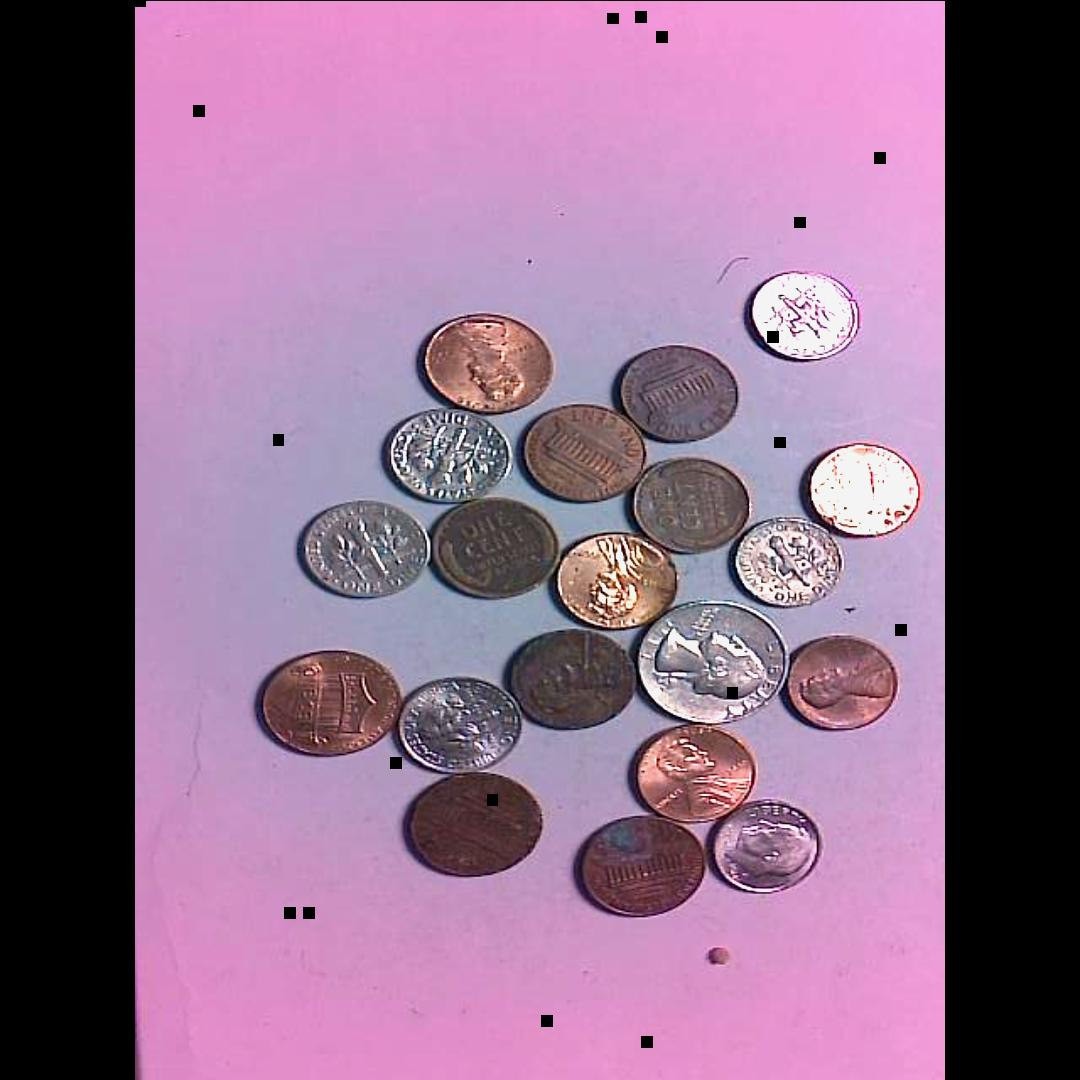Dime: (297, 498, 432, 599), (381, 403, 513, 505), (397, 675, 525, 773), (709, 798, 824, 891), (746, 272, 862, 361), (734, 515, 844, 608)
Penny: (255, 646, 408, 756), (402, 768, 548, 878), (417, 309, 559, 415), (503, 624, 641, 731), (427, 498, 565, 601), (552, 530, 683, 636), (521, 400, 646, 501), (631, 456, 753, 554), (621, 344, 741, 442), (638, 722, 754, 822), (582, 817, 704, 911), (811, 439, 923, 538), (783, 634, 899, 729)
Quarter: (636, 599, 791, 724)
